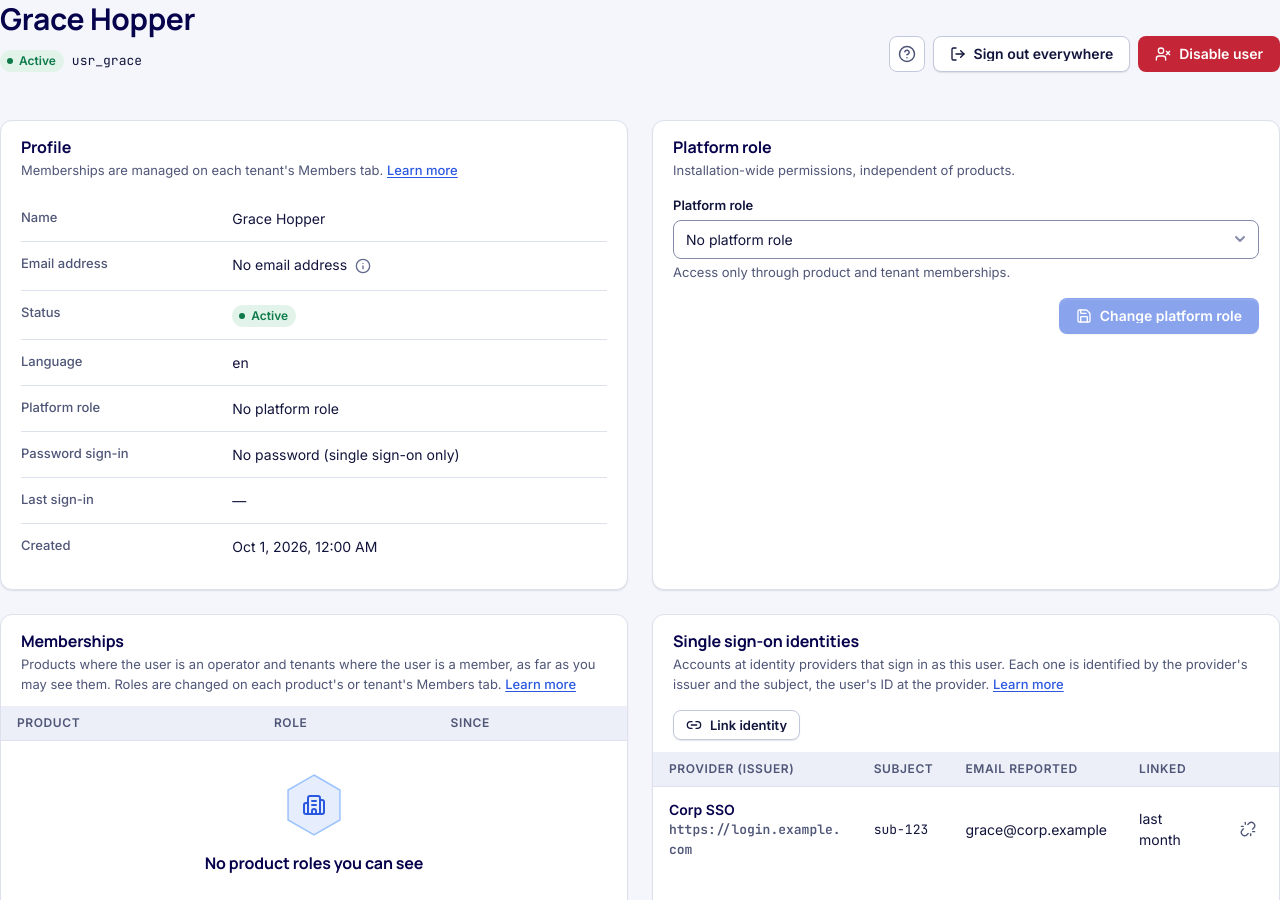
it: IdentitiesCard › explains the refusal to unlink the user's last way to sign in
Click the button named "Unlink the identity at Corp SSO" at (1248, 829), box [1233,814,1263,844]
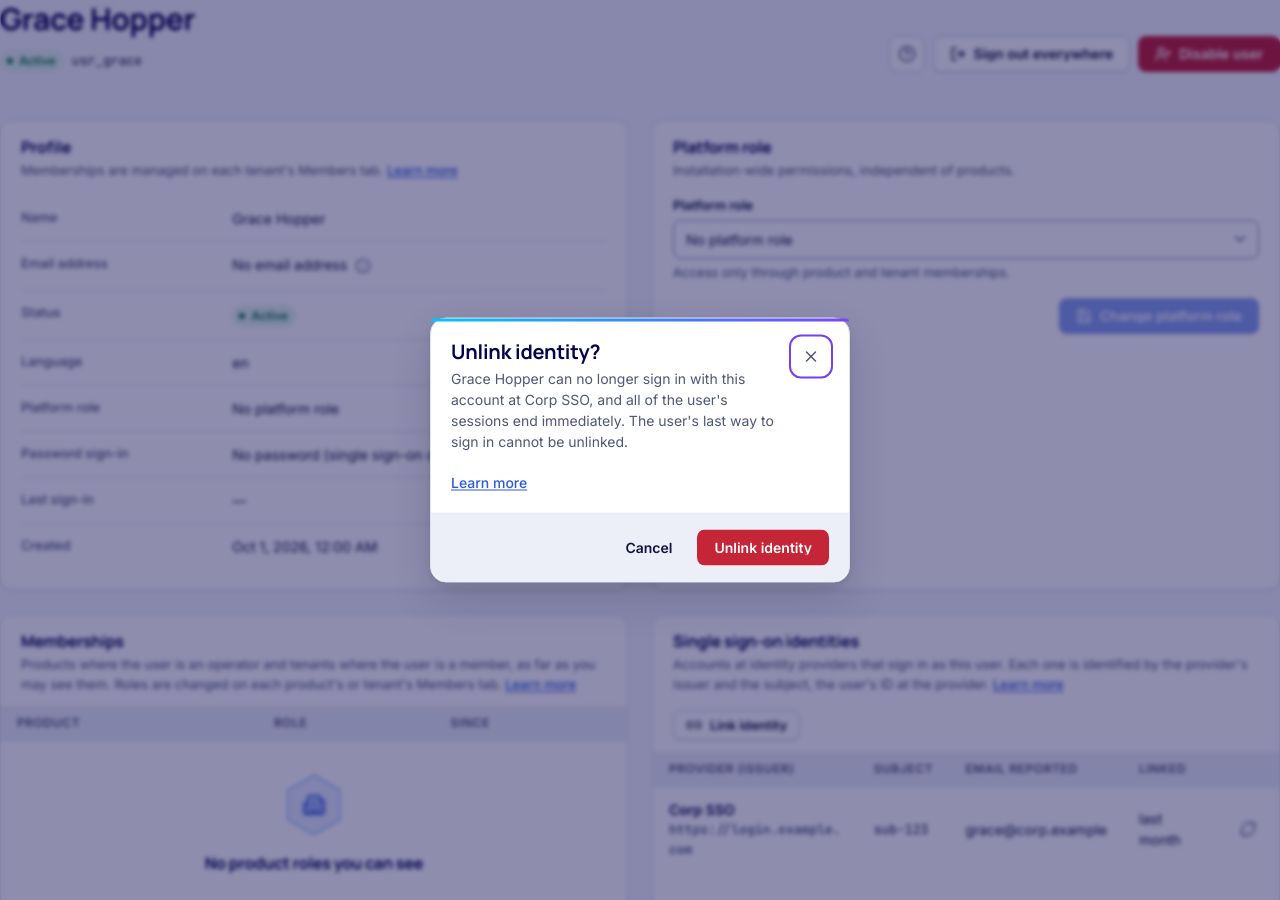
Click the button "Unlink identity" at (763, 548), box [697,530,829,566]
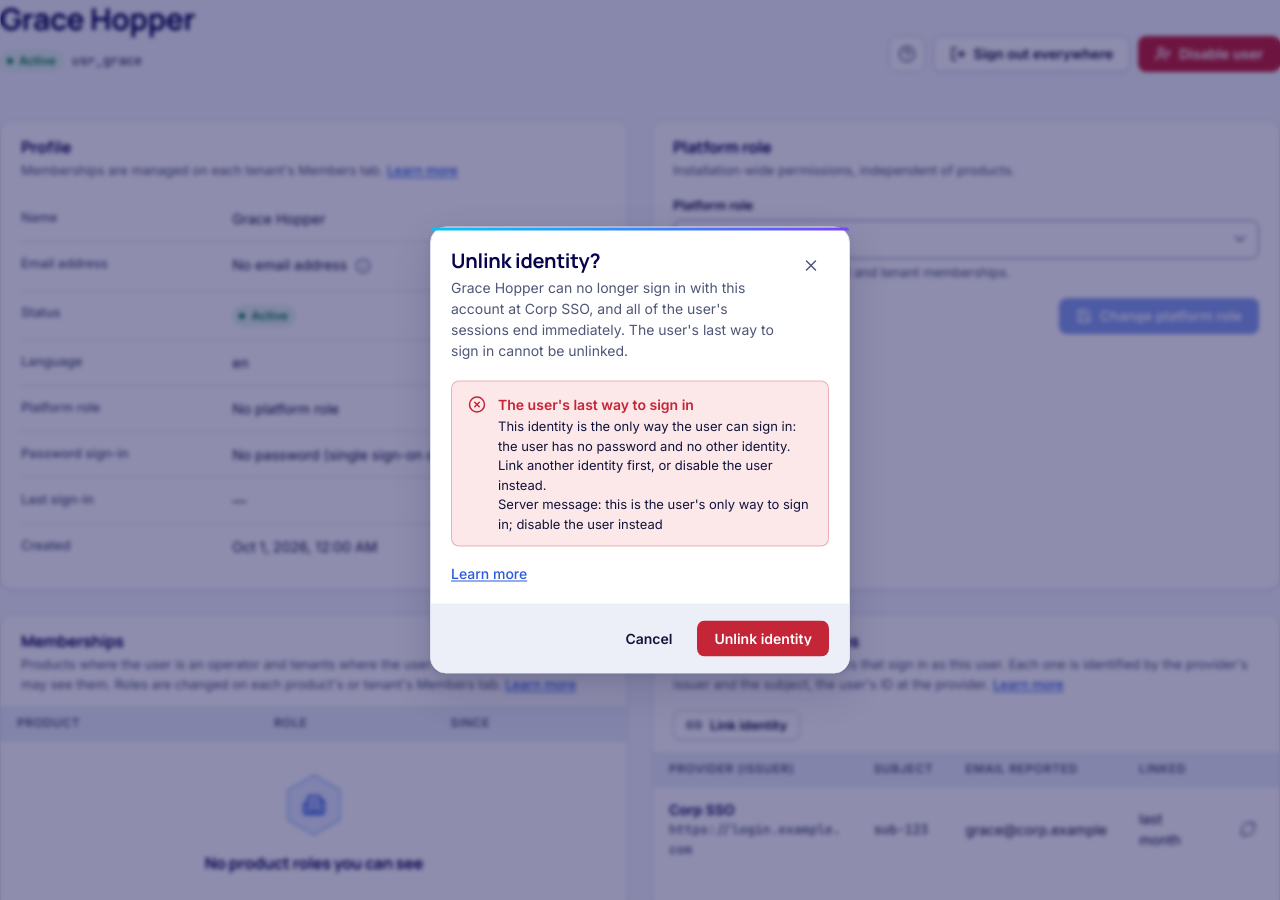
Now the dialog "Unlink identity?" is shown, box [430,226,850,674]
Now the text "The user's last way to sign in" is shown, box [498,396,694,412]
Now the text "Link another identity first" is shown, box [498,418,796,492]
